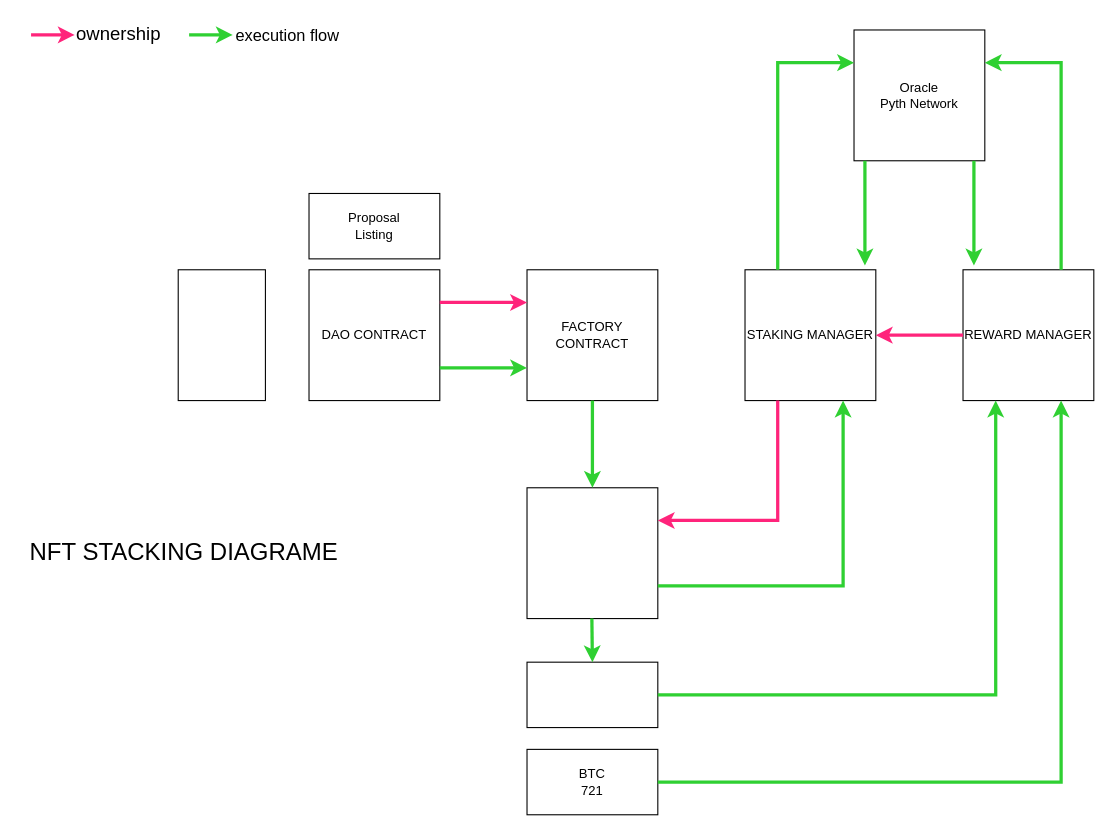
This 1113x834 diagram has some shape labels left out. Here are the shapes that lost their labels. From the top down, the centre of each, then its label:
At [221,335]: "ERC20".
At [592,553]: "NFT CONTRACT".
At [592,694]: "DOT 721".
